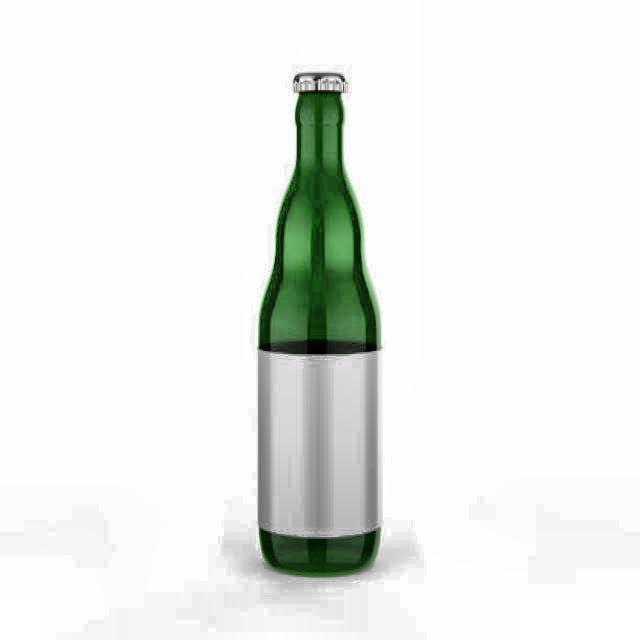glass: (257, 72, 384, 580)
